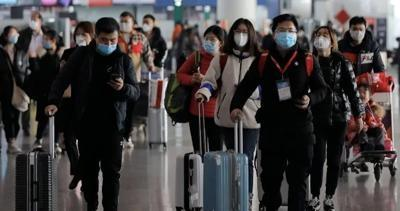mask: (276, 26, 298, 50), (313, 31, 332, 52), (97, 37, 118, 55), (202, 35, 218, 54), (234, 28, 249, 48), (75, 32, 89, 47), (351, 27, 366, 41), (119, 18, 131, 34), (9, 31, 19, 45), (42, 38, 53, 50), (29, 18, 39, 30), (142, 20, 152, 32)
no_hairnet: (358, 89, 370, 105)
